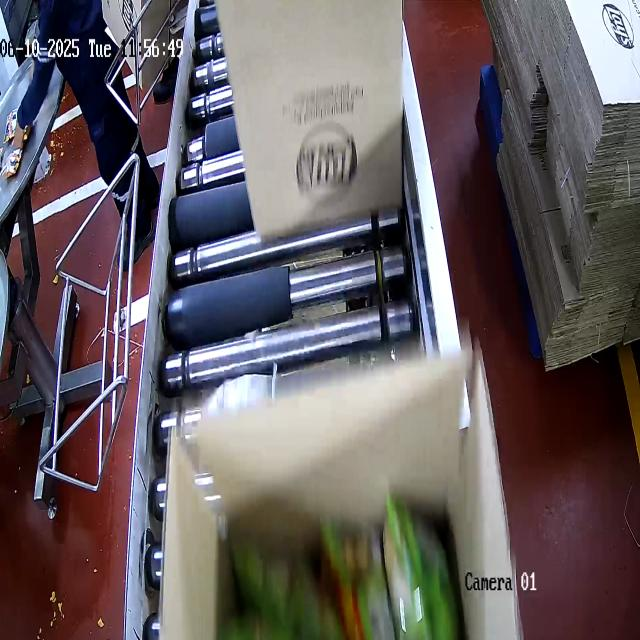YOGURT_HERB: (225, 513, 462, 640)
